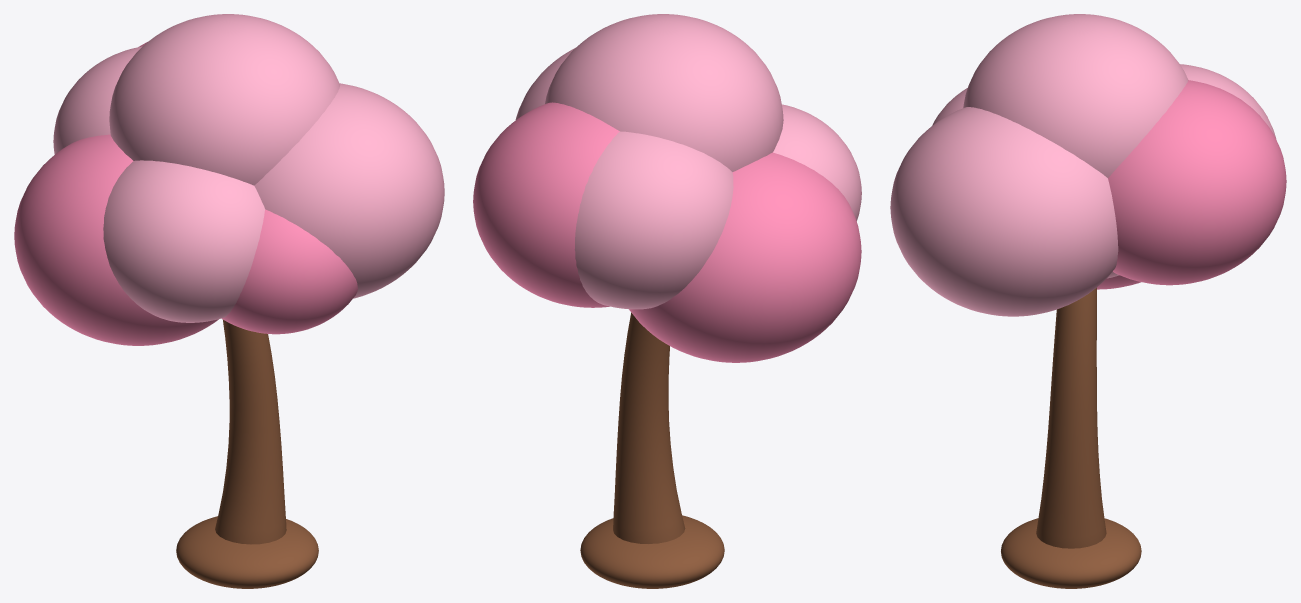
Rendered from tree_pink.glb.
3 renders of one model, left to right at view 1: azimuth 30°, elevation 25°; view 2: azimuth 150°, elevation 25°; view 3: azimuth 270°, elevation 25°, orthographic. The views are drawn at different scales.
Parts seen in each view (by area): view 1: LeafTop, Leaf6, Leaf4, Leaf3, Trunk, Leaf5, Roots, Leaf2; view 2: Leaf3, LeafTop, Leaf2, Leaf1, Trunk, Roots, Leaf4, Leaf6; view 3: Leaf6, Leaf1, LeafTop, Trunk, Roots, Leaf2.
Boxes of the visible parts, box(x1,y1,x2,y2) form: LeafTop: box(109, 14, 339, 185); Leaf6: box(254, 83, 444, 298); Leaf4: box(103, 160, 265, 322); Leaf3: box(14, 134, 218, 345); Trunk: box(215, 319, 286, 544); Leaf5: box(222, 209, 357, 334); Roots: box(176, 516, 318, 588); Leaf2: box(53, 46, 142, 154); Leaf3: box(629, 152, 861, 362); LeafTop: box(545, 14, 783, 171); Leaf2: box(574, 131, 733, 309); Leaf1: box(473, 102, 619, 307); Trunk: box(613, 312, 685, 543); Roots: box(580, 515, 724, 588); Leaf4: box(773, 104, 861, 220); Leaf6: box(515, 47, 575, 119); Leaf6: box(890, 107, 1118, 316); Leaf1: box(1108, 80, 1286, 285); LeafTop: box(963, 14, 1188, 177); Trunk: box(1036, 287, 1106, 548); Roots: box(1001, 518, 1141, 588); Leaf2: box(1180, 64, 1276, 138).
Size of the model in its own units: 2.37 by 3.5 by 2.32.
